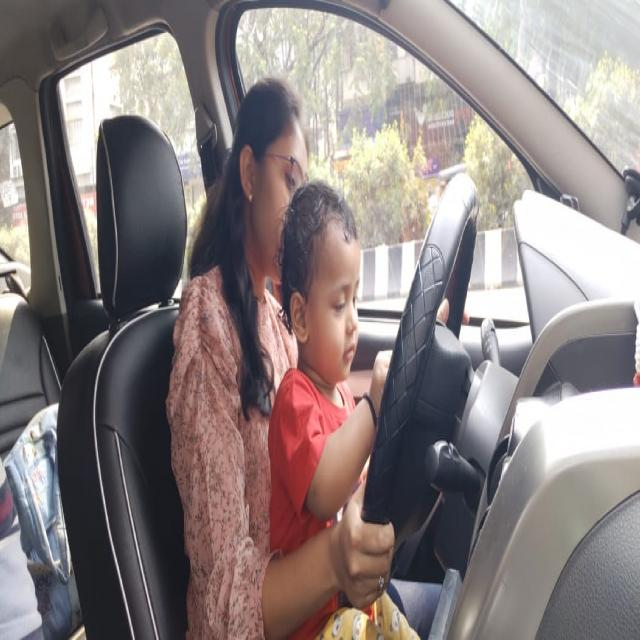child: (278, 185, 366, 385)
person: (227, 77, 311, 273)
